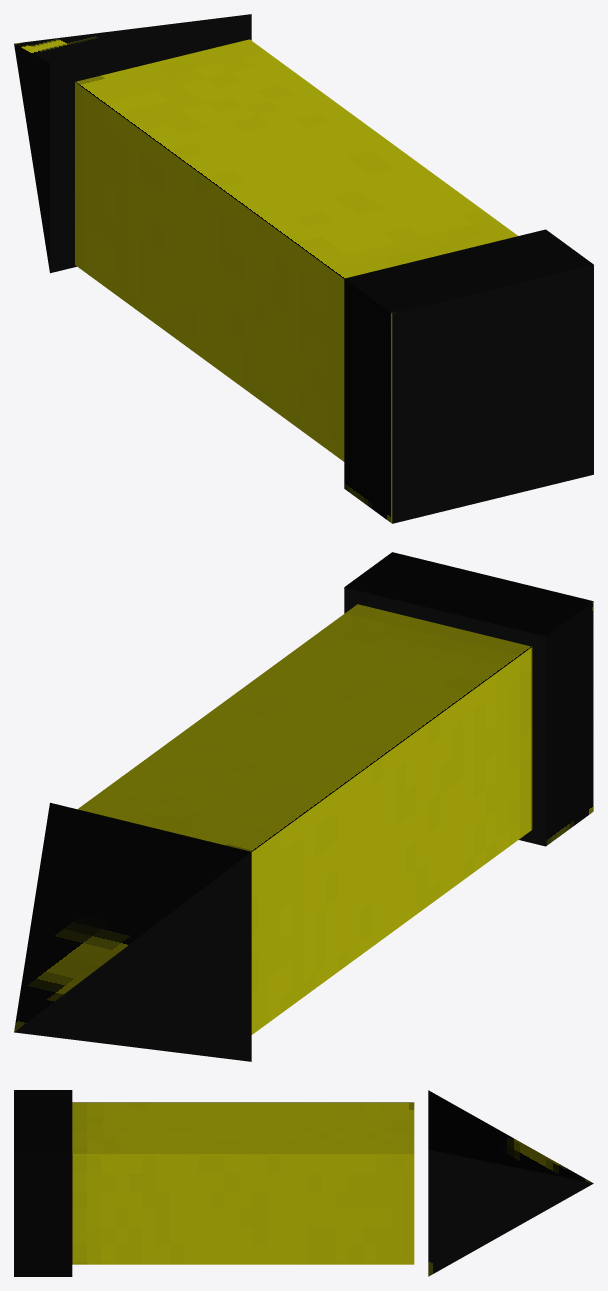
Rendered from ex_Lamp0.obj.
3 views of the same model, one above another, from view 1: azimuth 30°, elevation 25°; view 2: azimuth 150°, elevation 25°; view 3: azimuth 270°, elevation 25° (orthographic). The views are drawn at different scales.
Visible parts, largest first — view 1: object 2, ex_Lamp0_Cube.007; view 2: object 2, ex_Lamp0_Cube.007; view 3: object 2, ex_Lamp0_Cube.007.
Boxes of the visible parts, x1=… form: object 2: x1=75, y1=39, x2=517, y2=461; ex_Lamp0_Cube.007: x1=14, y1=14, x2=593, y2=523; object 2: x1=78, y1=604, x2=532, y2=1034; ex_Lamp0_Cube.007: x1=14, y1=552, x2=593, y2=1061; object 2: x1=72, y1=1102, x2=414, y2=1264; ex_Lamp0_Cube.007: x1=14, y1=1090, x2=593, y2=1276.
Size of the model in its own units: 9.85 by 9.8 by 40.51.
Materials: 2 (2 with a texture image).
